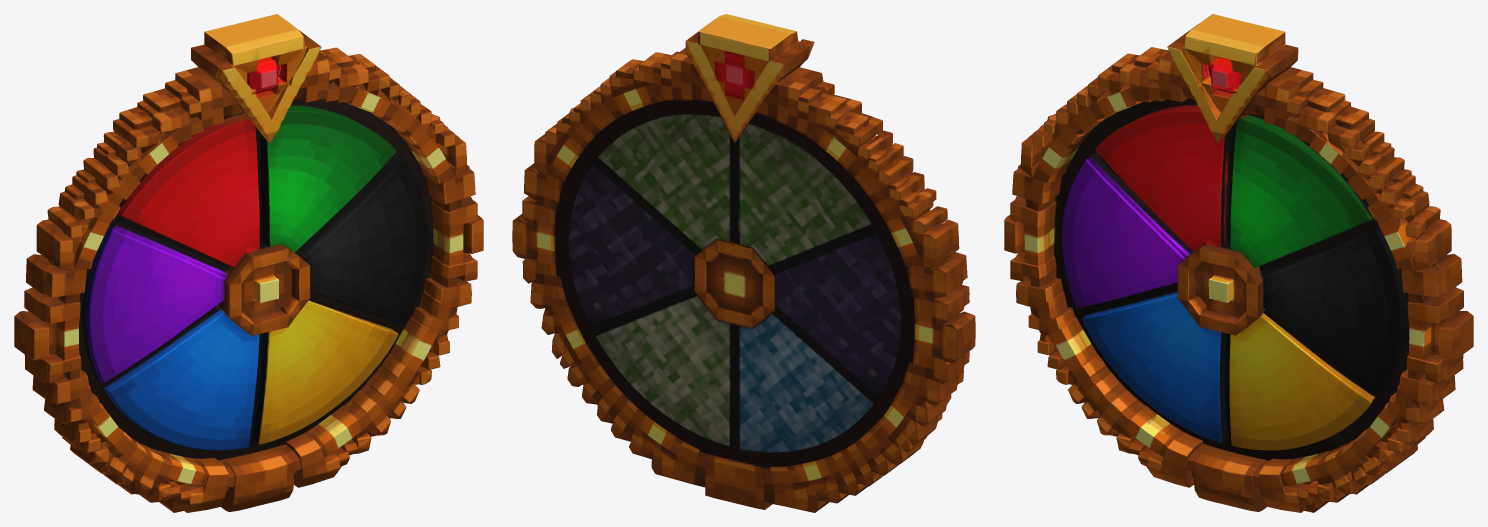
The model's file is Meshy_AI_model.fbx.
3 views of the same model, side by side, from view 1: azimuth 30°, elevation 25°; view 2: azimuth 150°, elevation 25°; view 3: azimuth 330°, elevation 25° (orthographic).
Parts seen in each view (by area): view 1: Mesh_0; view 2: Mesh_0; view 3: Mesh_0.
Part boxes in pixels (x1=…): Mesh_0: x1=14, y1=14, x2=483, y2=512; Mesh_0: x1=512, y1=14, x2=975, y2=512; Mesh_0: x1=1004, y1=14, x2=1473, y2=512.
Size of the model in its own units: 190 by 189 by 23.23.
Materials: 1 (1 with a texture image).
